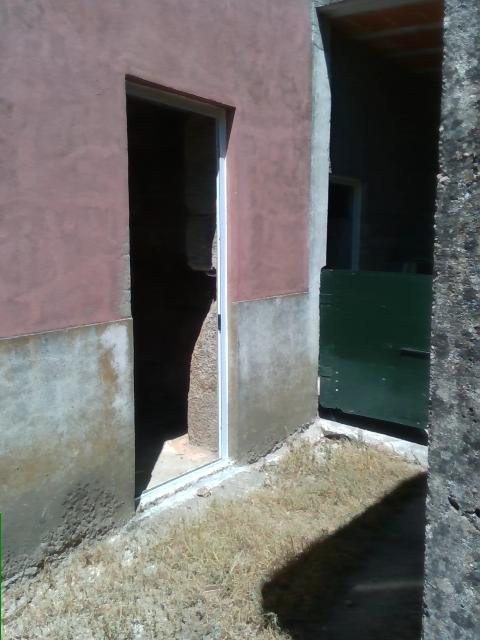open_door: (121, 69, 236, 514)
